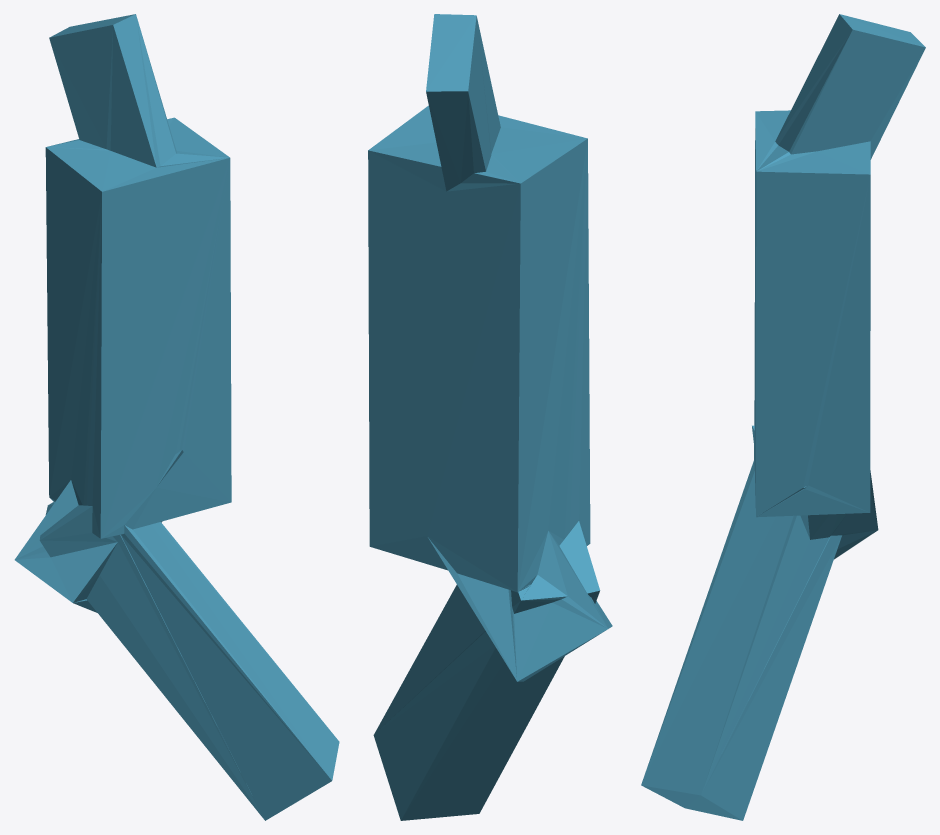
The picture shows the model from 3 angles, left to right: view 1: azimuth 30°, elevation 25°; view 2: azimuth 150°, elevation 25°; view 3: azimuth 270°, elevation 25°; orthographic projection. The views are drawn at different scales.
Visible parts, largest first — view 1: 551_Cube.2222; view 2: 551_Cube.2222; view 3: 551_Cube.2222.
Part boxes in pixels (x1,y1,x2,y2): 551_Cube.2222: (14, 14, 339, 820); 551_Cube.2222: (368, 14, 612, 820); 551_Cube.2222: (641, 14, 925, 820).
Size of the model in its own units: 9.63 by 26.53 by 9.04.
